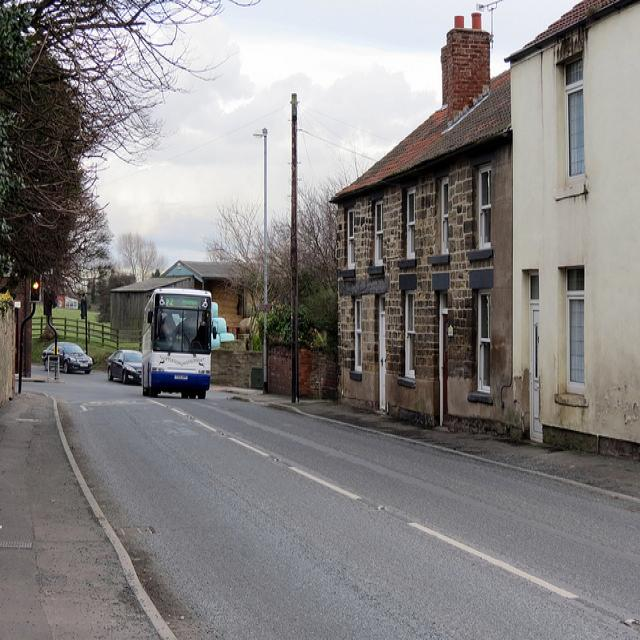Vehicle: (142, 287, 212, 398), (42, 342, 92, 375), (106, 350, 142, 385)
